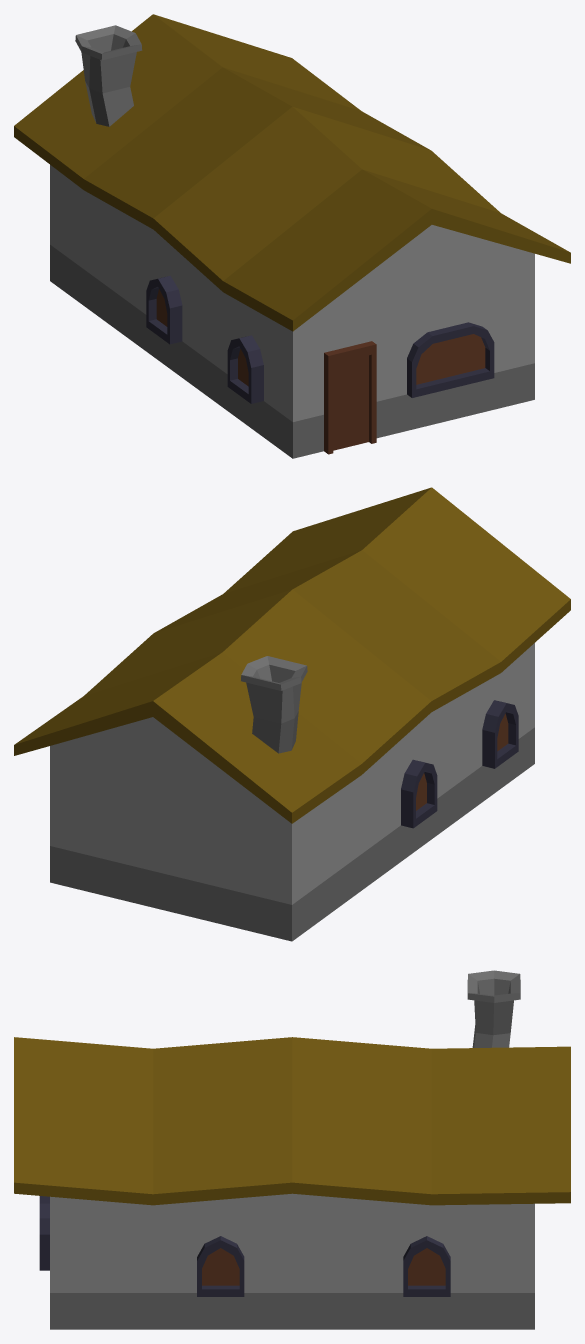
File: Casa01.fbx
The picture shows the model from 3 angles, top to bottom: view 1: azimuth 30°, elevation 25°; view 2: azimuth 150°, elevation 25°; view 3: azimuth 270°, elevation 25°; orthographic projection.
Parts seen in each view (by area): view 1: Casa_1; view 2: Casa_1; view 3: Casa_1.
Boxes of the visible parts, x1,y1,x2,y2 form: Casa_1: [14, 14, 570, 458]; Casa_1: [14, 487, 570, 941]; Casa_1: [14, 970, 570, 1329].
Bounding box in the file's own units: 643 × 546 × 1117.
